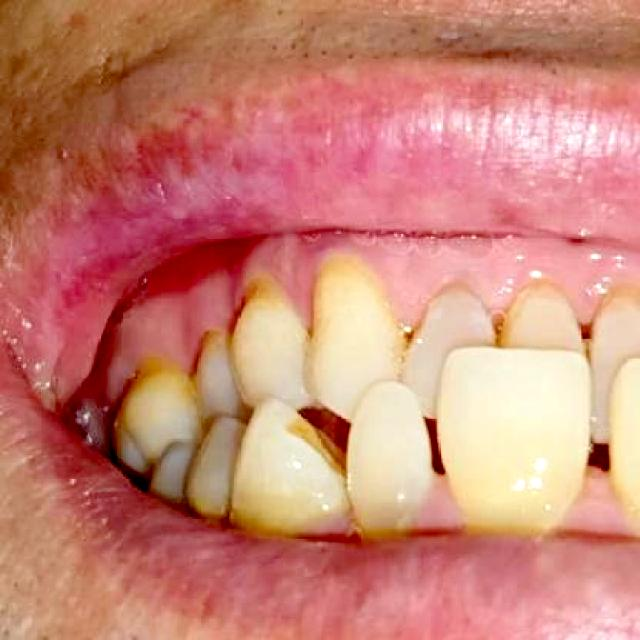Plaque: (86, 227, 398, 415)
